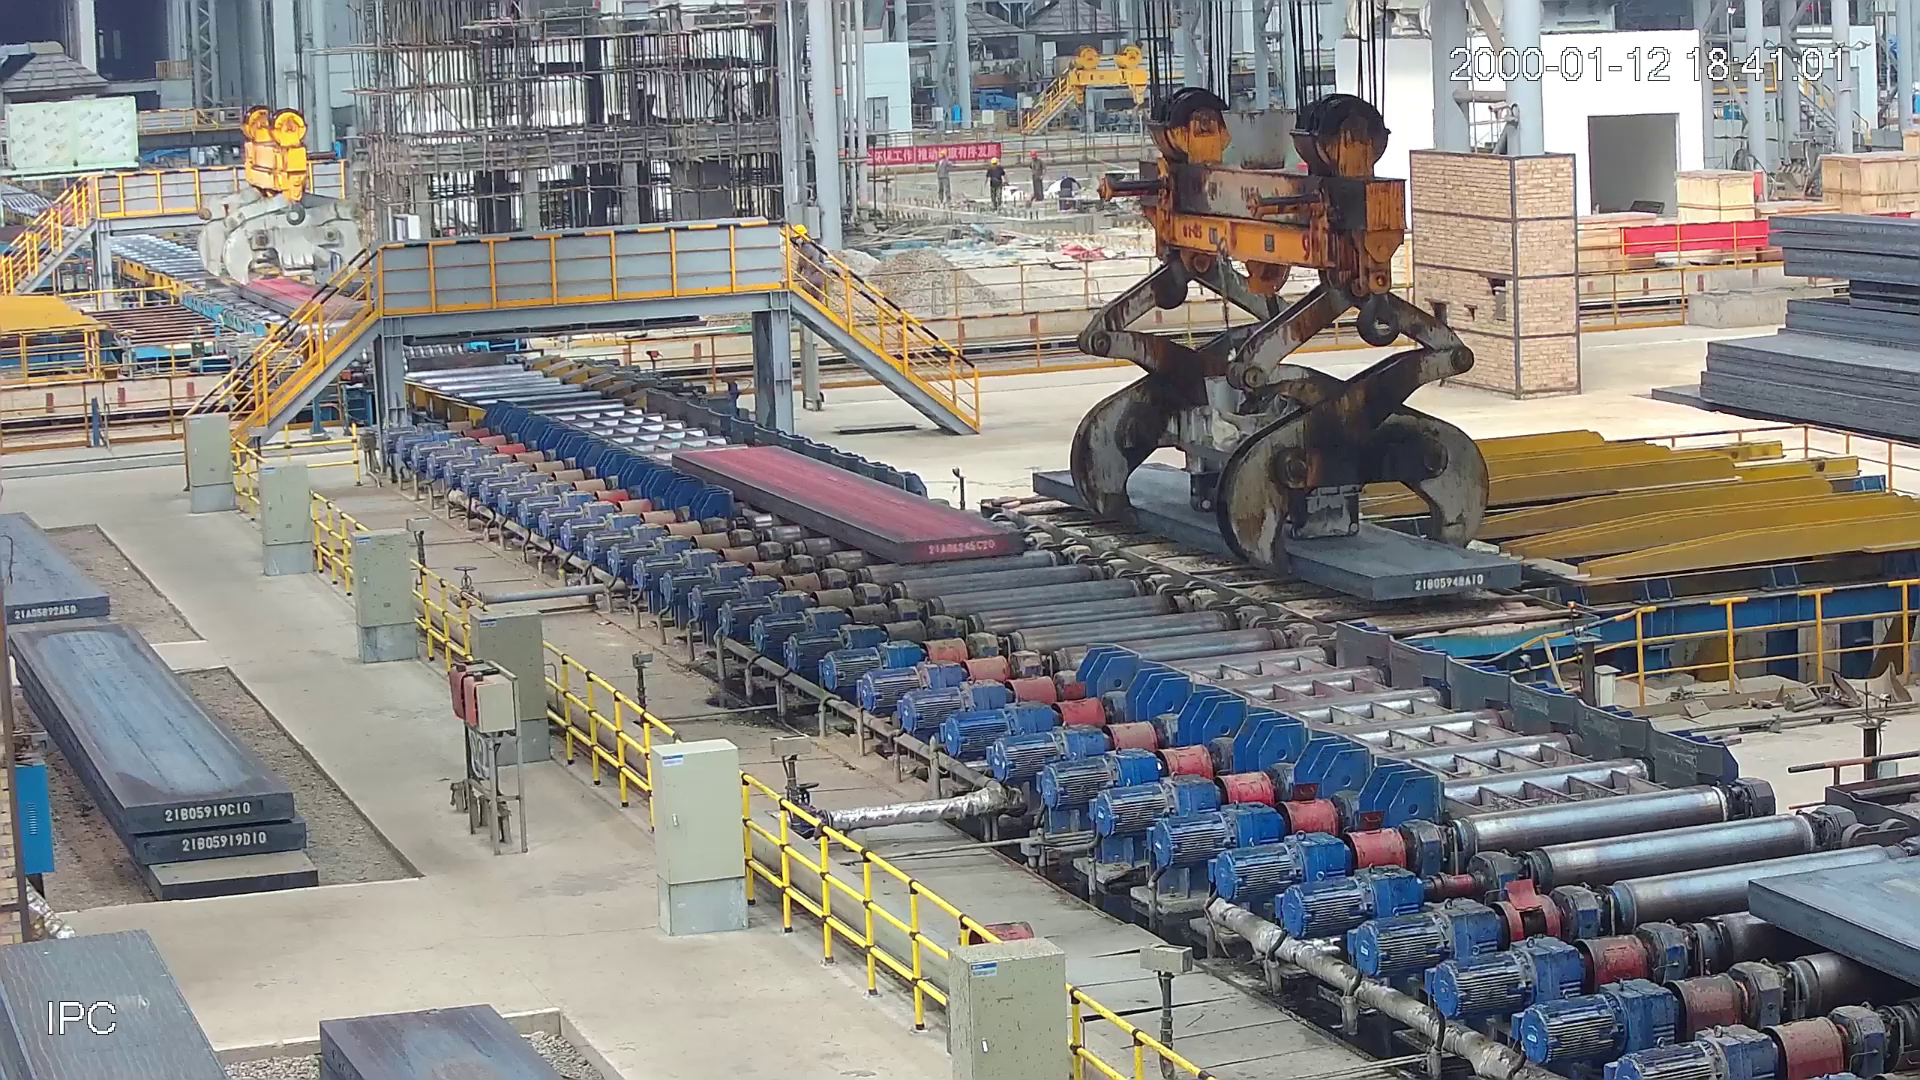crane: (182, 96, 378, 297)
craneandslab: (1033, 69, 1536, 607)
slab: (659, 440, 1027, 572), (225, 276, 375, 322)
